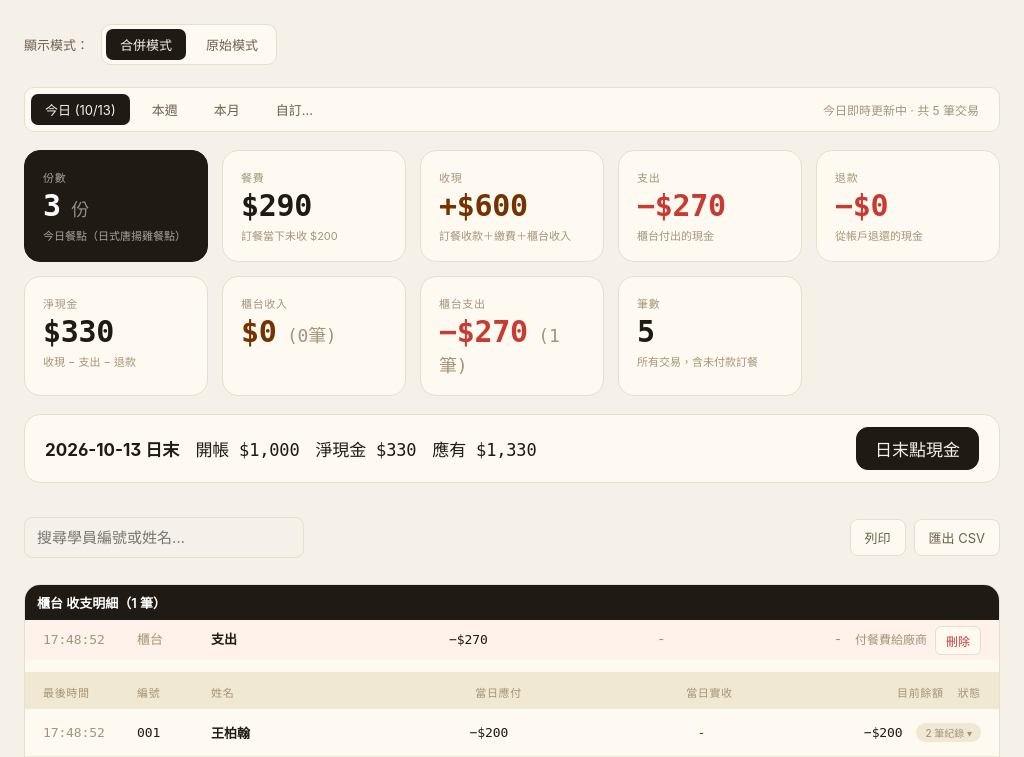
Test: F2 日末點現金（D03／D04） › 明細在前、點現金表單預設收起；橫條就看得到開帳、淨現金、應有
expect the field labelled "實際點算金額" is not shown: met
expect the element named "日末結帳" shows "開帳 $1,000": met, box x1=24 y1=414 x2=1000 y2=483
Click the button "日末點現金": (918, 448) x1=856 y1=427 x2=979 y2=470
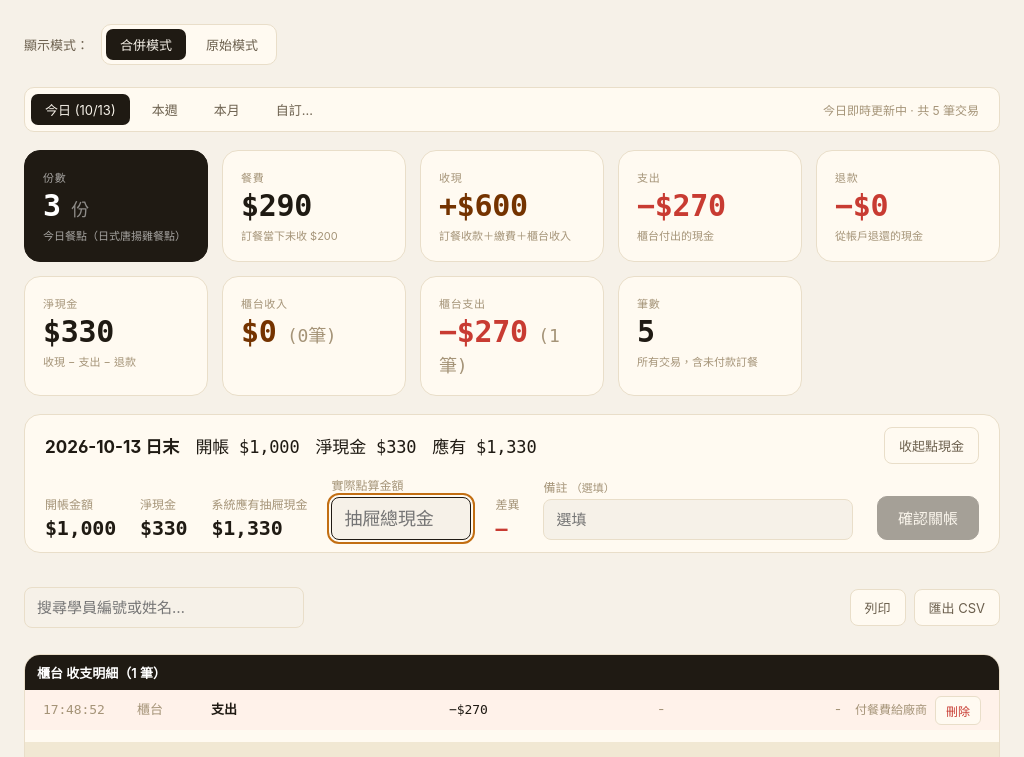
Click the button "收起點現金": (932, 446) x1=884 y1=427 x2=979 y2=464
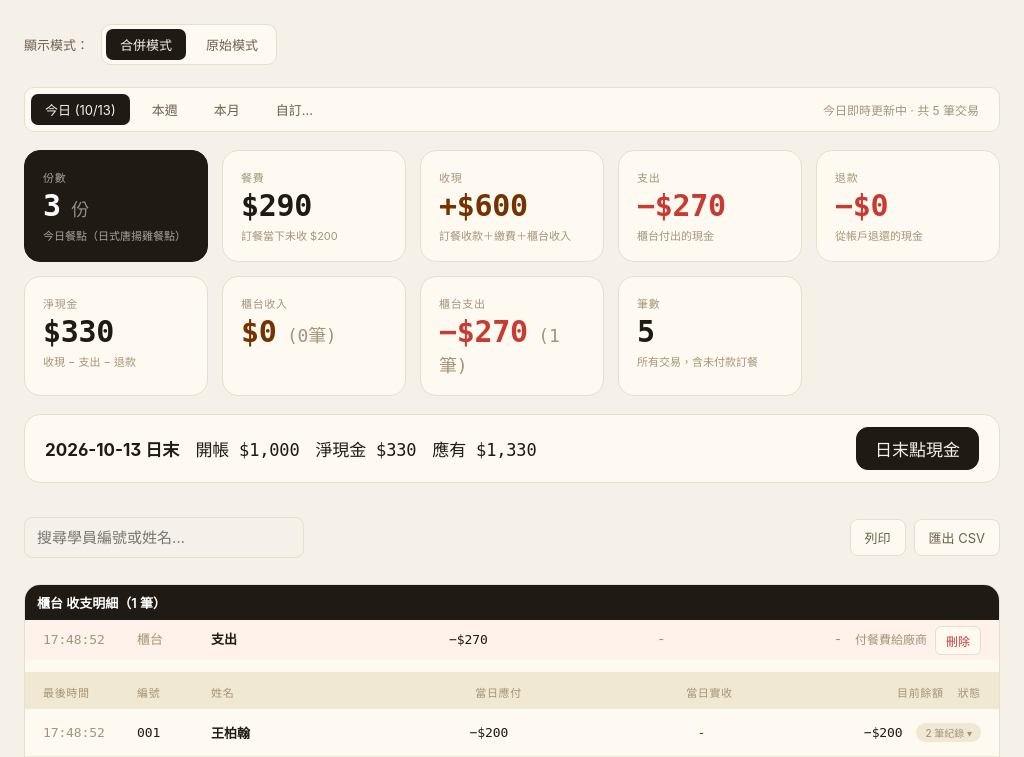
expect the label labelled "實際點算金額" is gone: met
